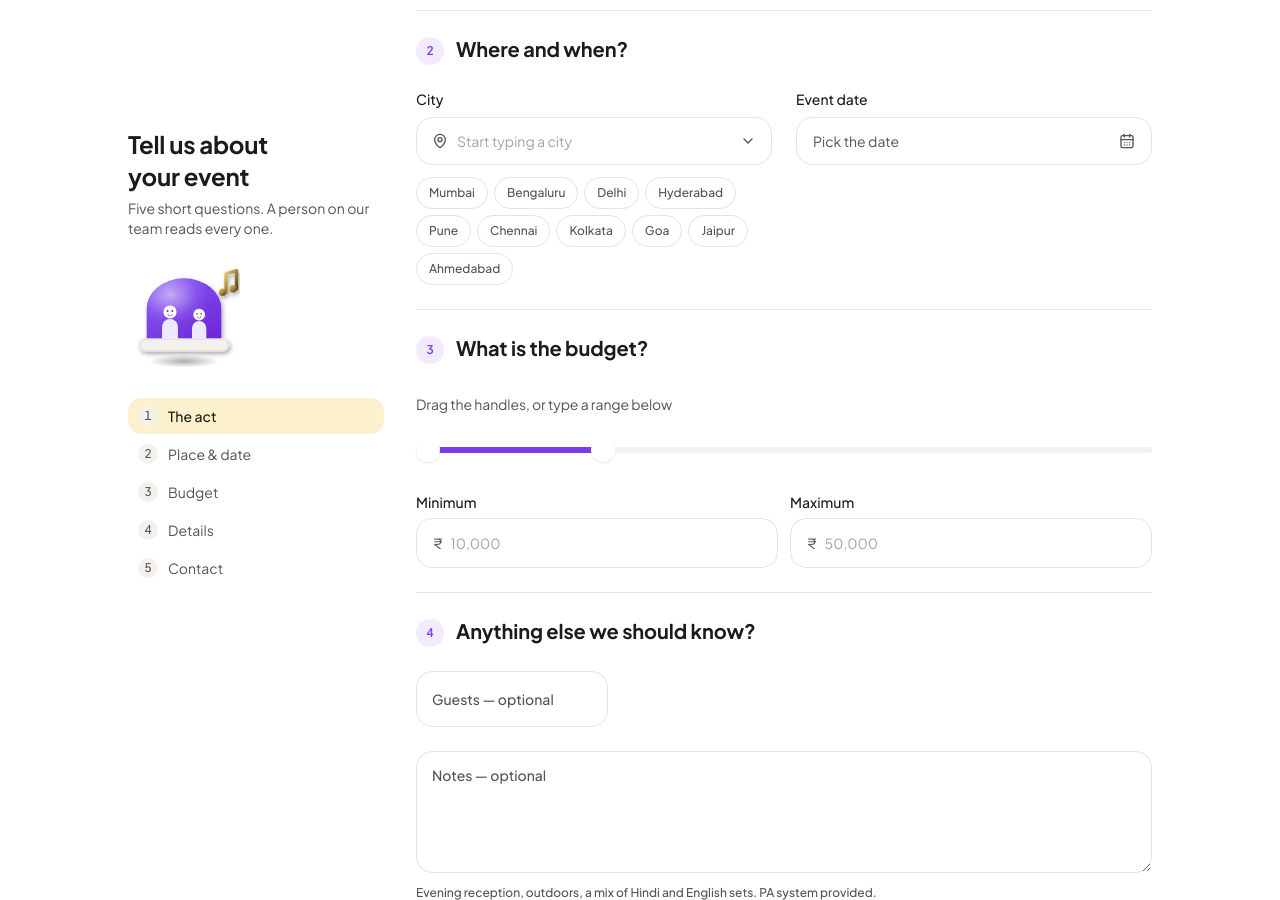
Test case: the budget slider › writes the number fields, so the slider and the typed range are one answer
(page scrolled)
Set the 1st slider named "Minimum budget" to "50000" at (457, 450), box [416, 428, 1152, 472]
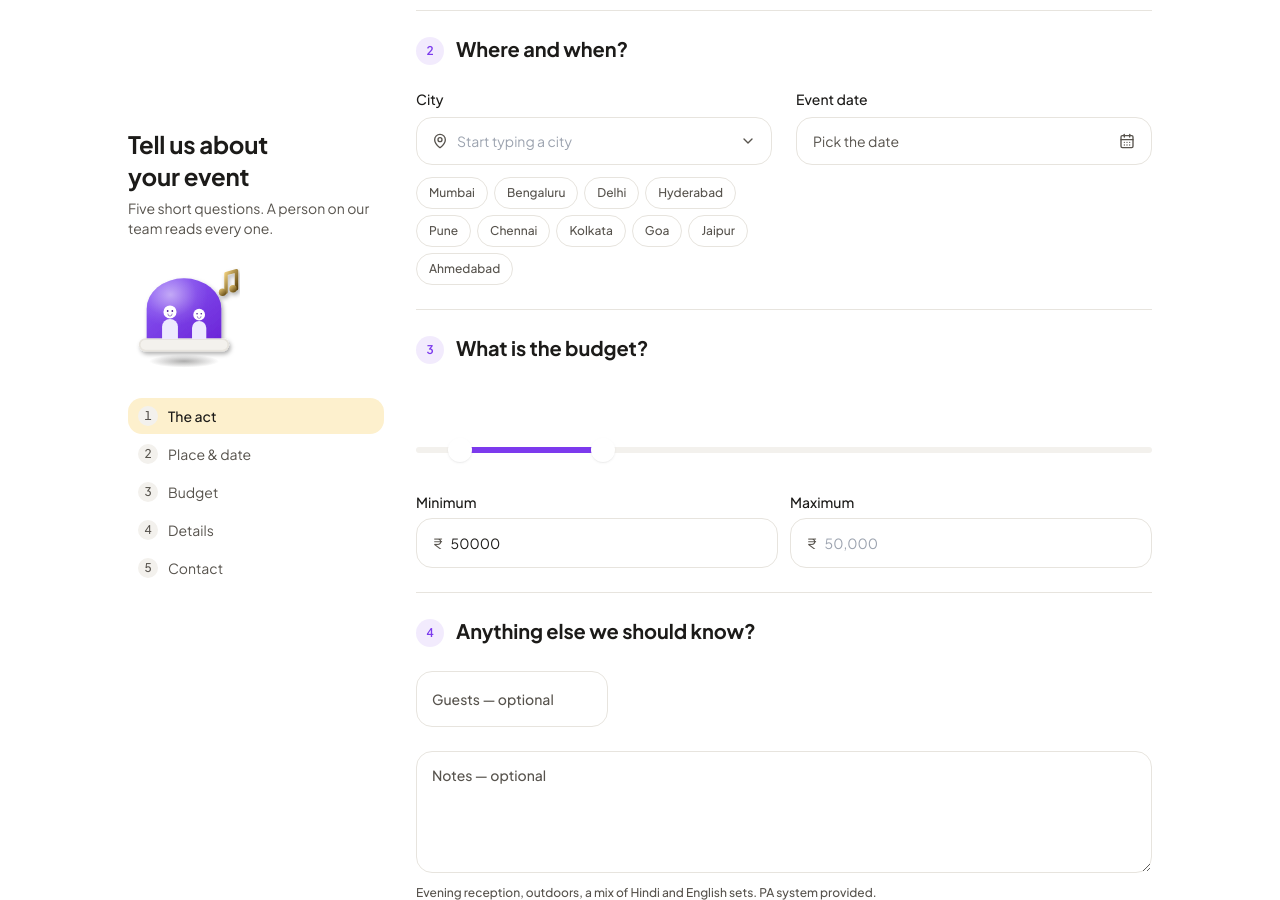
Result: the field labelled "Minimum" holds "50000" at [450, 519, 761, 567]
